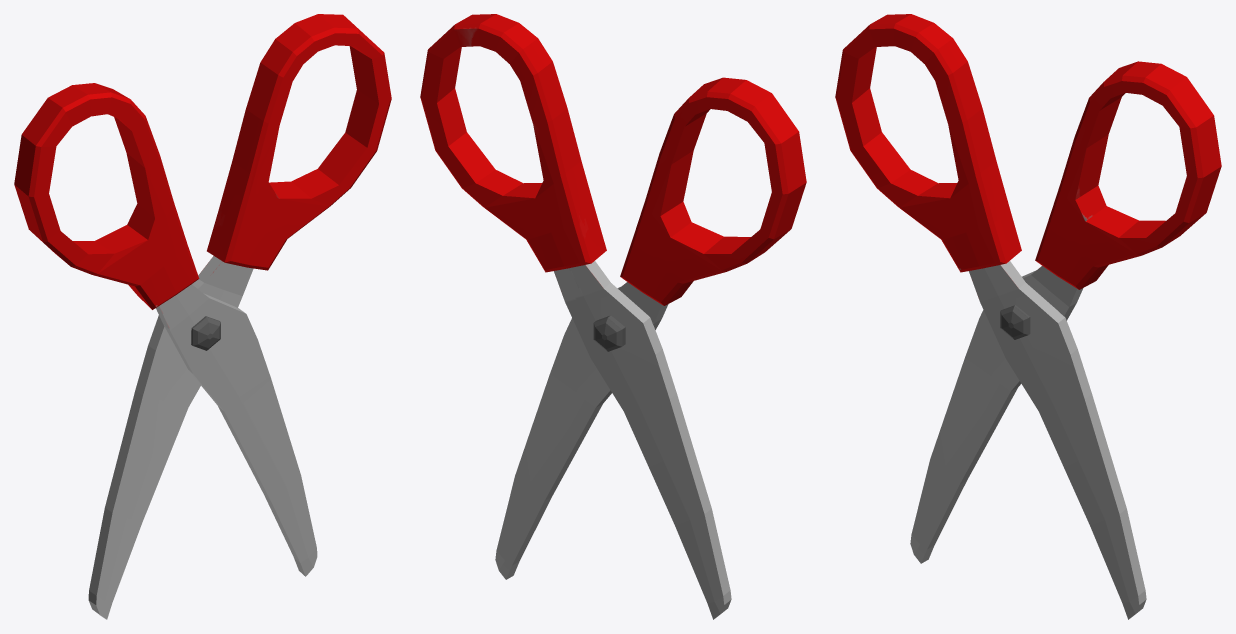
The model's file is Scissors_Correct.fbx.
3 views of the same model, side by side, from view 1: azimuth 30°, elevation 25°; view 2: azimuth 150°, elevation 25°; view 3: azimuth 330°, elevation 25° (orthographic).
Parts seen in each view (by area): view 1: SSC; view 2: SSC; view 3: SSC.
Part boxes in pixels (box(x1,y1,x2,y2)): SSC: box(14, 14, 391, 619); SSC: box(420, 14, 806, 619); SSC: box(835, 14, 1221, 619).
Bounding box in the file's own units: 22.1 × 31.72 × 2.74.
Materials: 1 (1 with a texture image).
